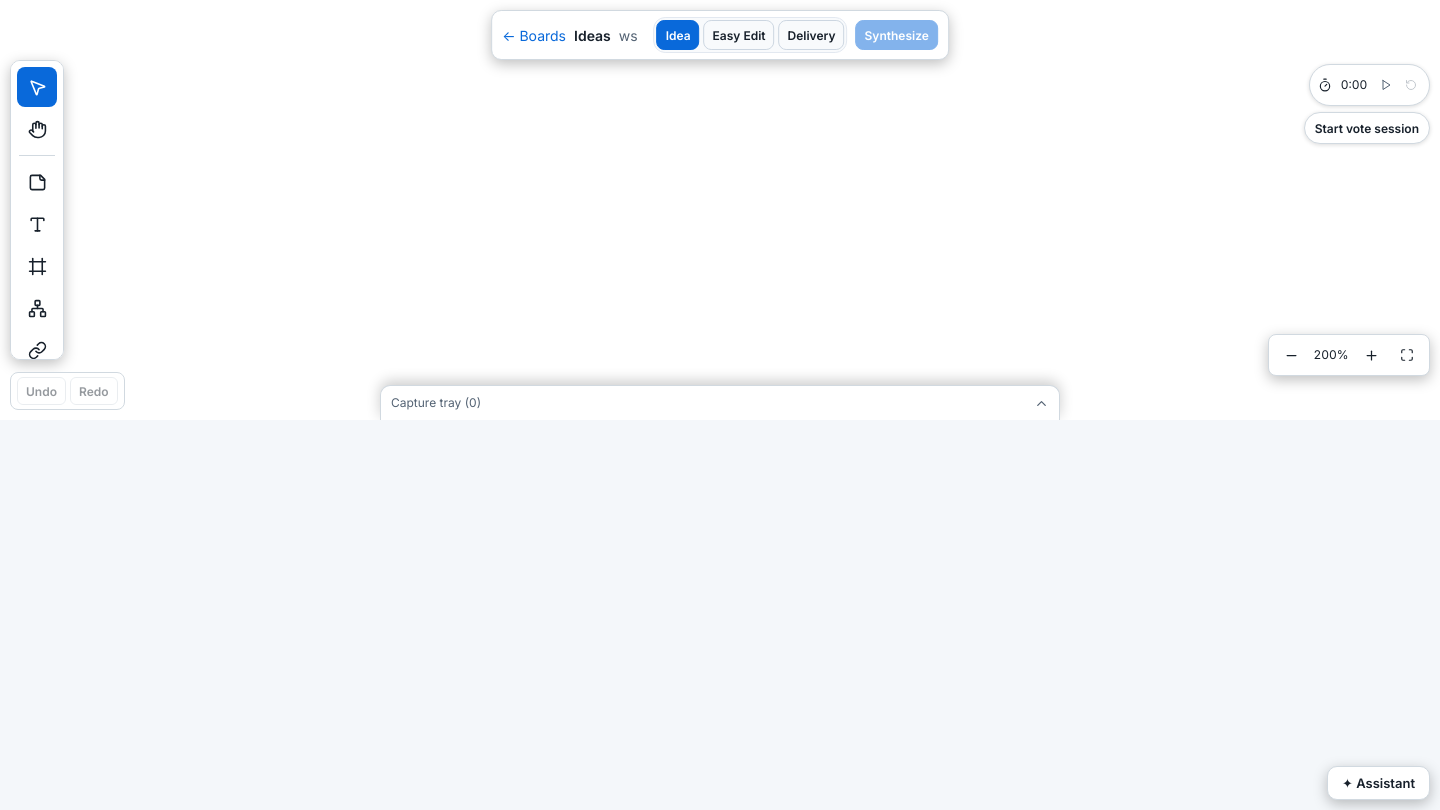
Scenario: board assistant panel (wp-165) › collapse → corner toggle → reopen keeps the thread mounted state
Click the button with aria-label "board assistant": (1378, 783) [1327,766,1430,800]
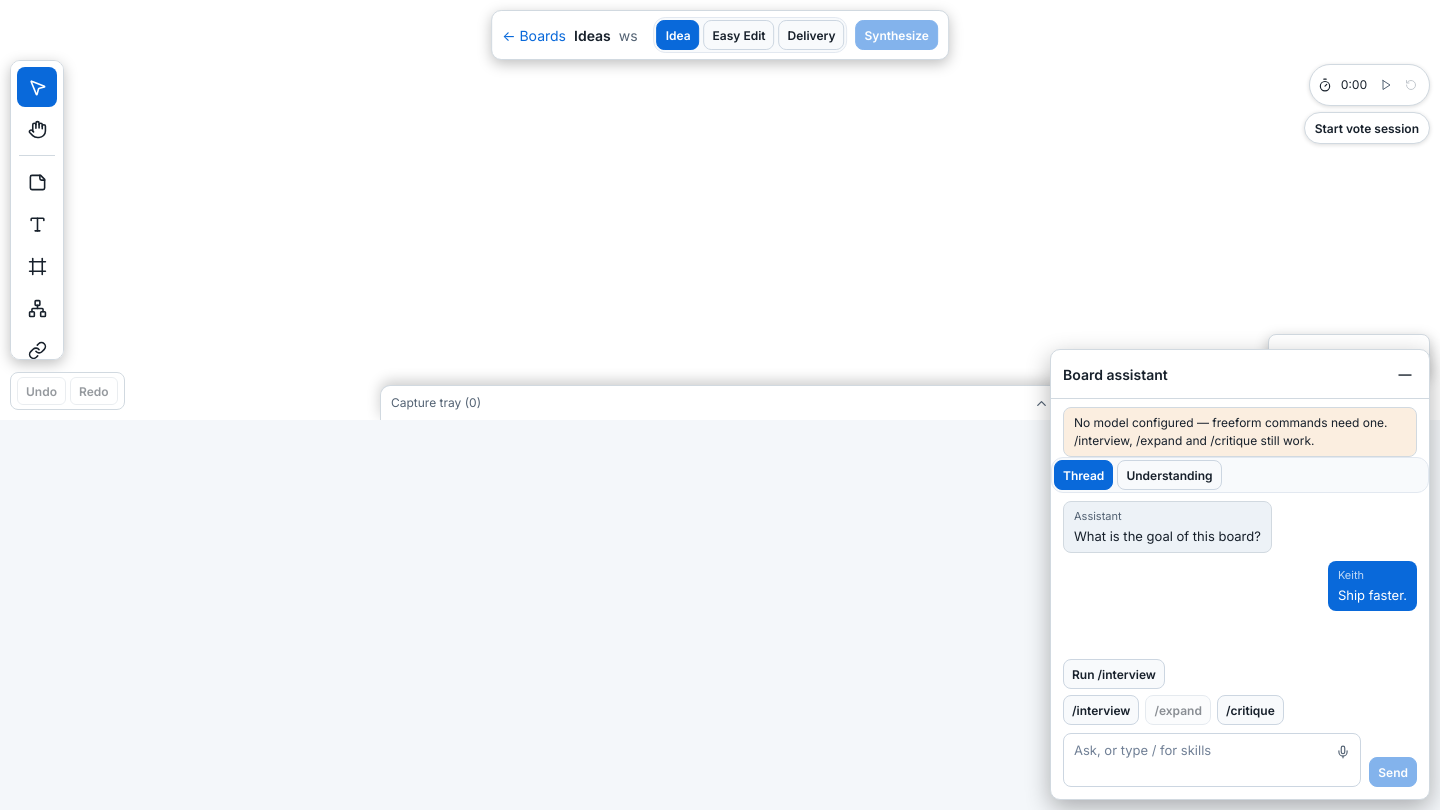
Check: the tab "Thread" is shown, box [1054,460,1113,490]
Click the button named "collapse assistant panel": (1405, 374) [1393,358,1417,390]
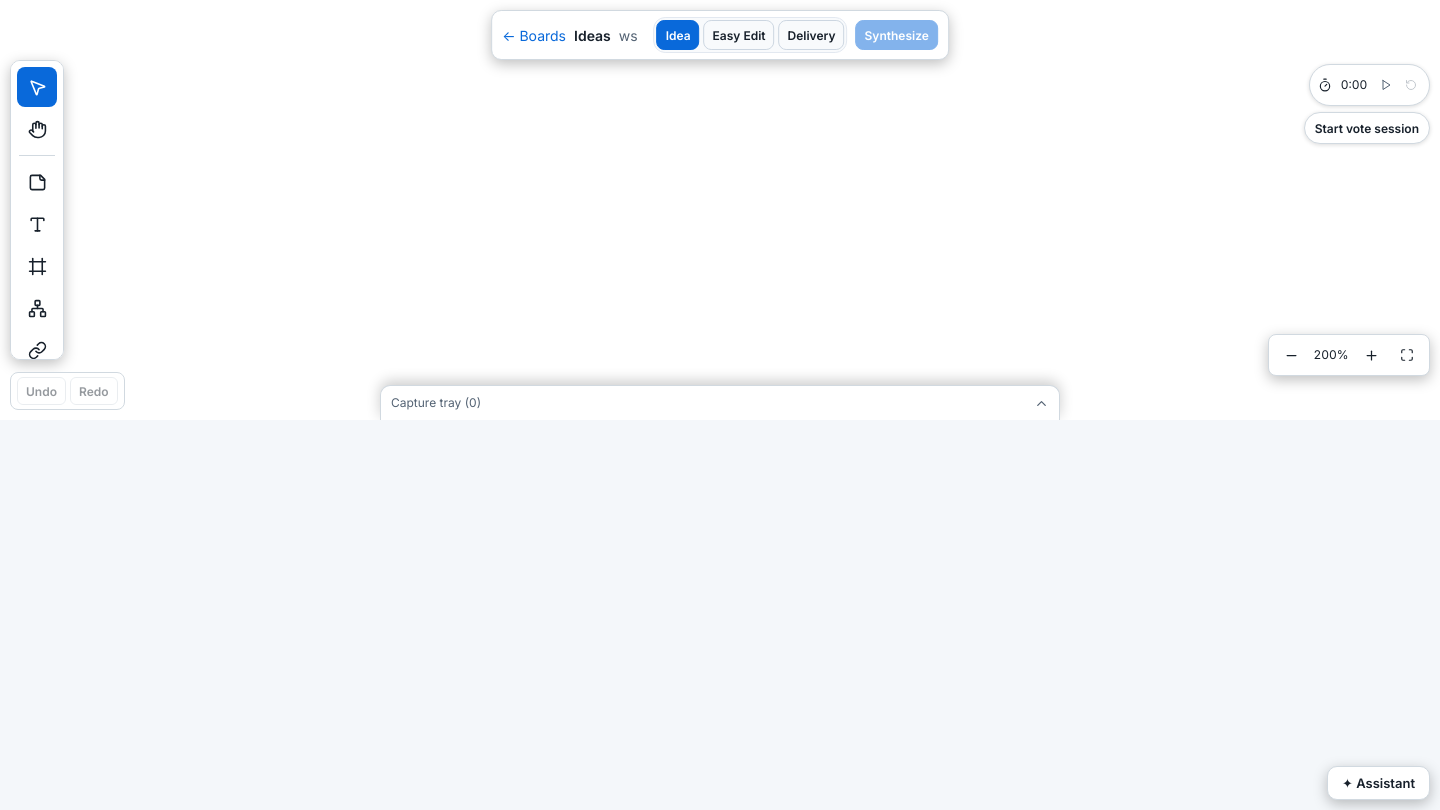
Click the button with aria-label "board assistant": (1378, 783) [1327,766,1430,800]
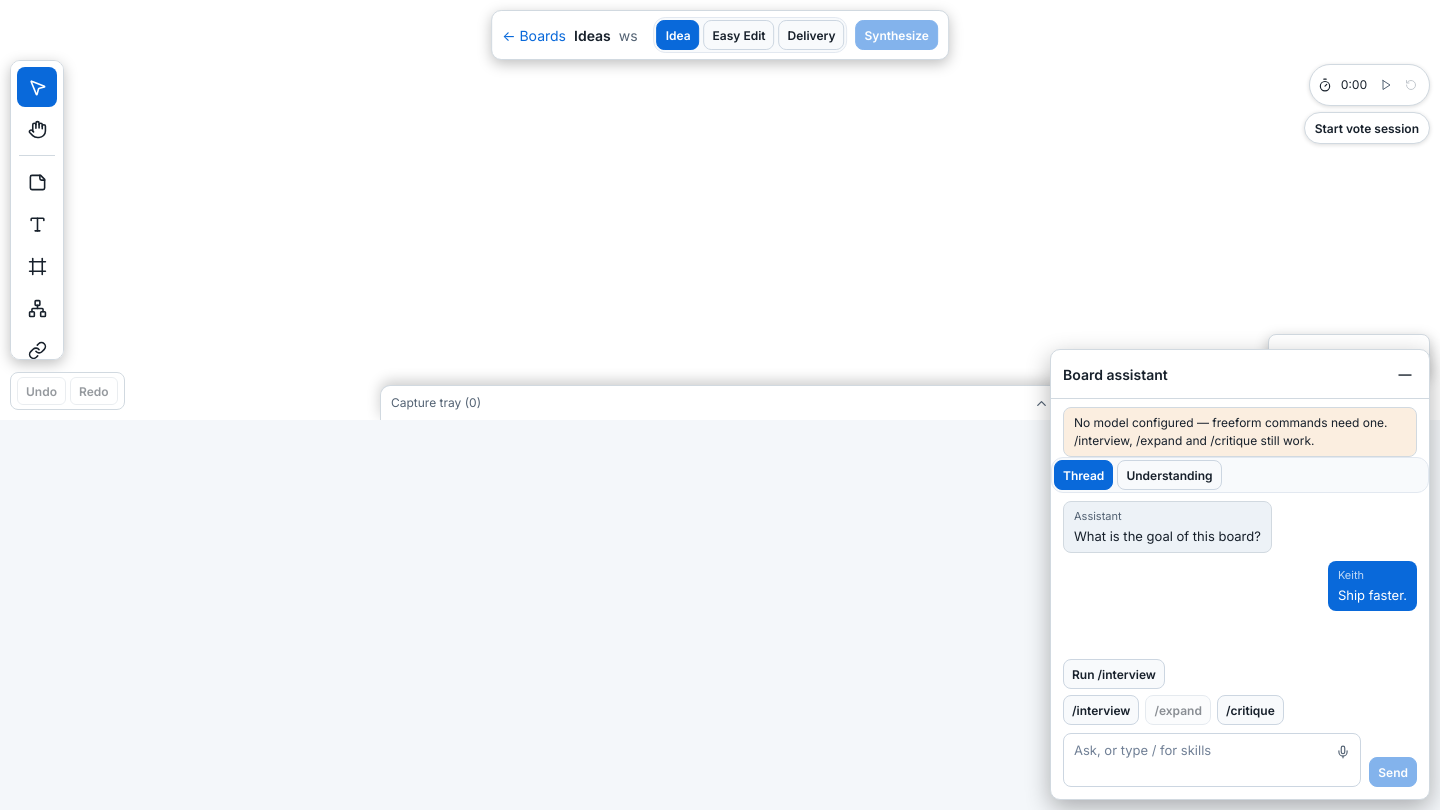
Check: the text "What is the goal of this board?" is shown, box [1074,527,1261,546]
